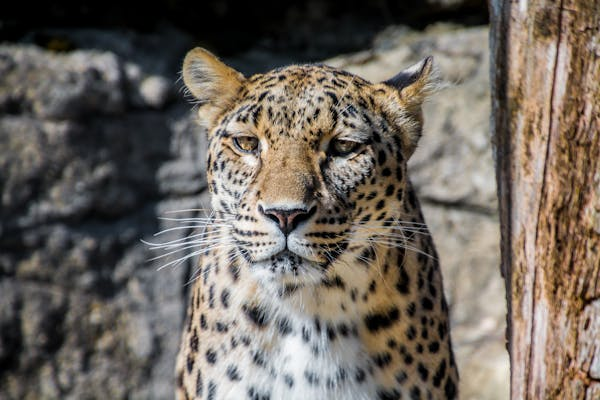Leopard: (172, 45, 461, 400)
